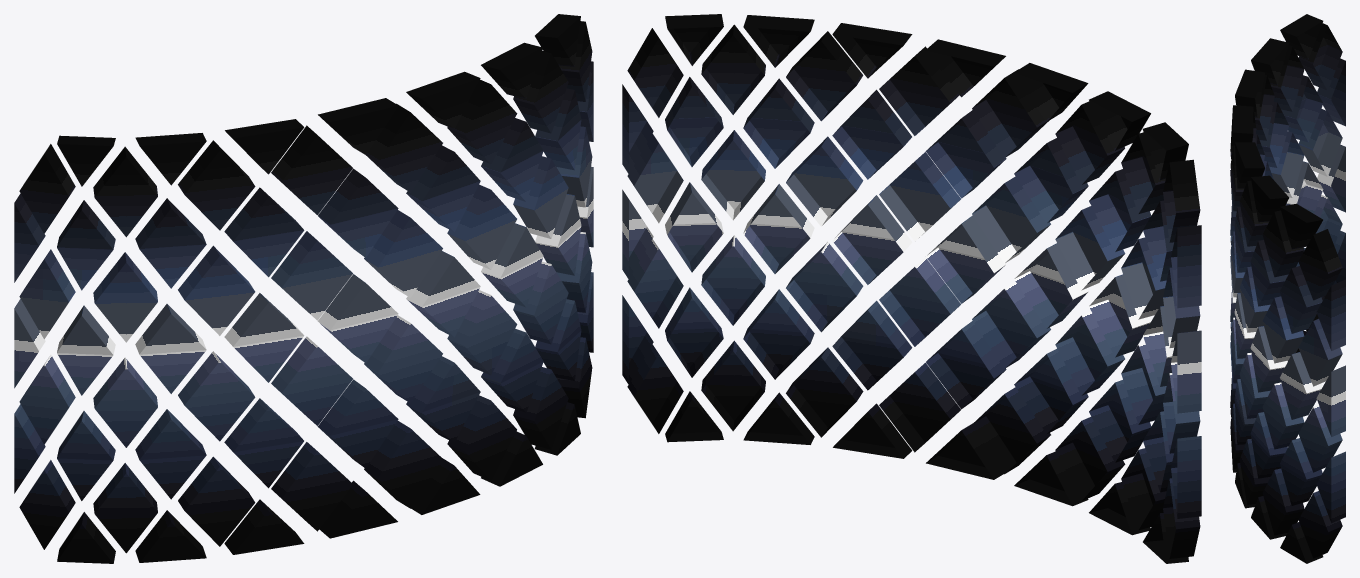
The picture shows the model from 3 angles, left to right: view 1: azimuth 30°, elevation 25°; view 2: azimuth 150°, elevation 25°; view 3: azimuth 270°, elevation 25°; orthographic projection. The views are drawn at different scales.
Size of the model in its own units: 2.2 by 1.52 by 0.4659.
1 material, 1 textured.
